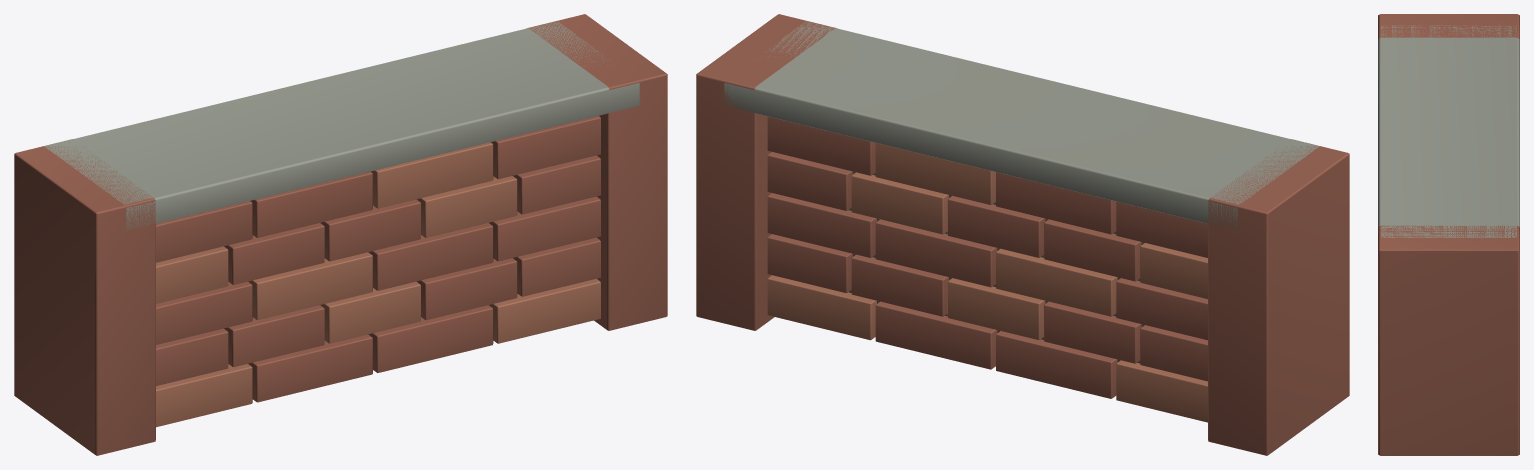
The model's file is S064_brick_parapet_rebuilt.glb.
3 views of the same model, side by side, from view 1: azimuth 30°, elevation 25°; view 2: azimuth 150°, elevation 25°; view 3: azimuth 270°, elevation 25° (orthographic). The views are drawn at different scales.
Visible parts, largest first — view 1: Warm_brickwork, Weathered_light_stone, Brickwork_alternate; view 2: Warm_brickwork, Weathered_light_stone, Brickwork_alternate; view 3: Warm_brickwork, Weathered_light_stone.
Boxes of the visible parts, x1,y1,x2,y2 form: Warm_brickwork: (14, 14, 667, 455); Weathered_light_stone: (44, 21, 639, 229); Brickwork_alternate: (156, 142, 600, 427); Warm_brickwork: (696, 14, 1349, 455); Weathered_light_stone: (724, 21, 1319, 230); Brickwork_alternate: (767, 143, 1207, 422); Warm_brickwork: (1378, 14, 1519, 455); Weathered_light_stone: (1378, 25, 1519, 237).
Size of the model in its own units: 2.53 by 1.03 by 0.64.
